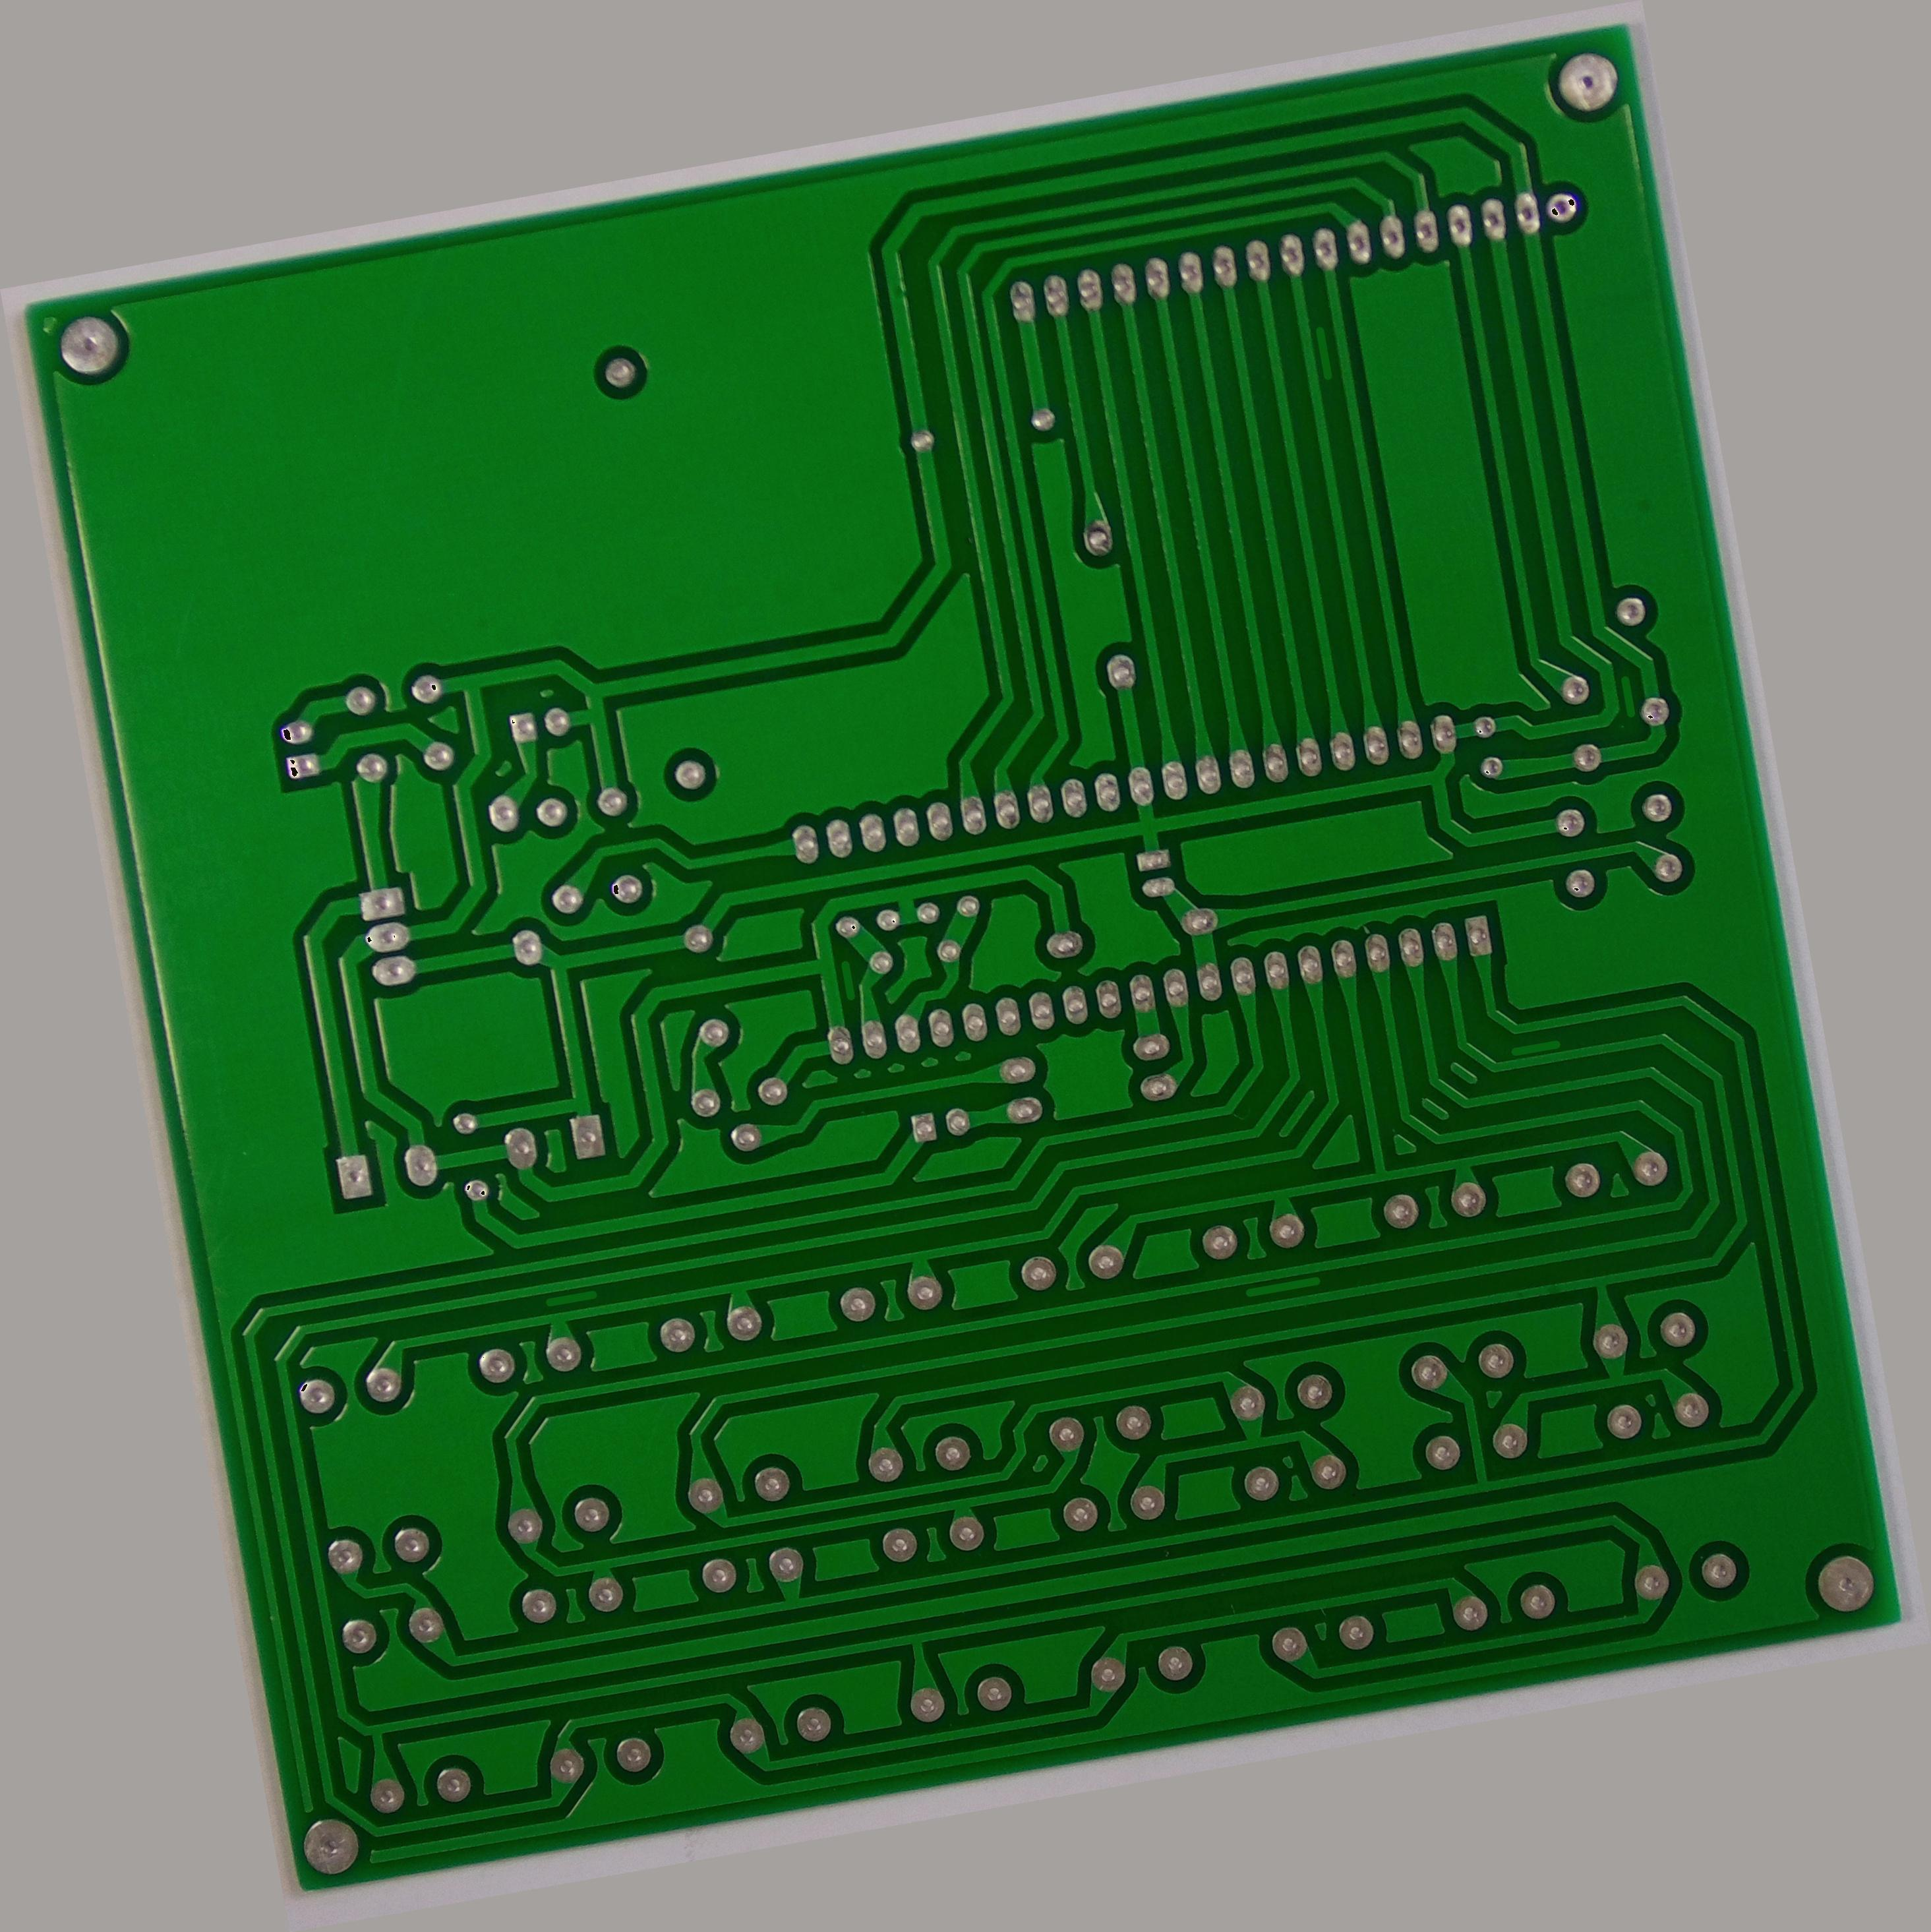spurious_copper: (1231, 1263, 1332, 1313), (1500, 1026, 1576, 1070), (1301, 313, 1346, 386), (536, 1277, 605, 1322), (1607, 665, 1648, 729)
